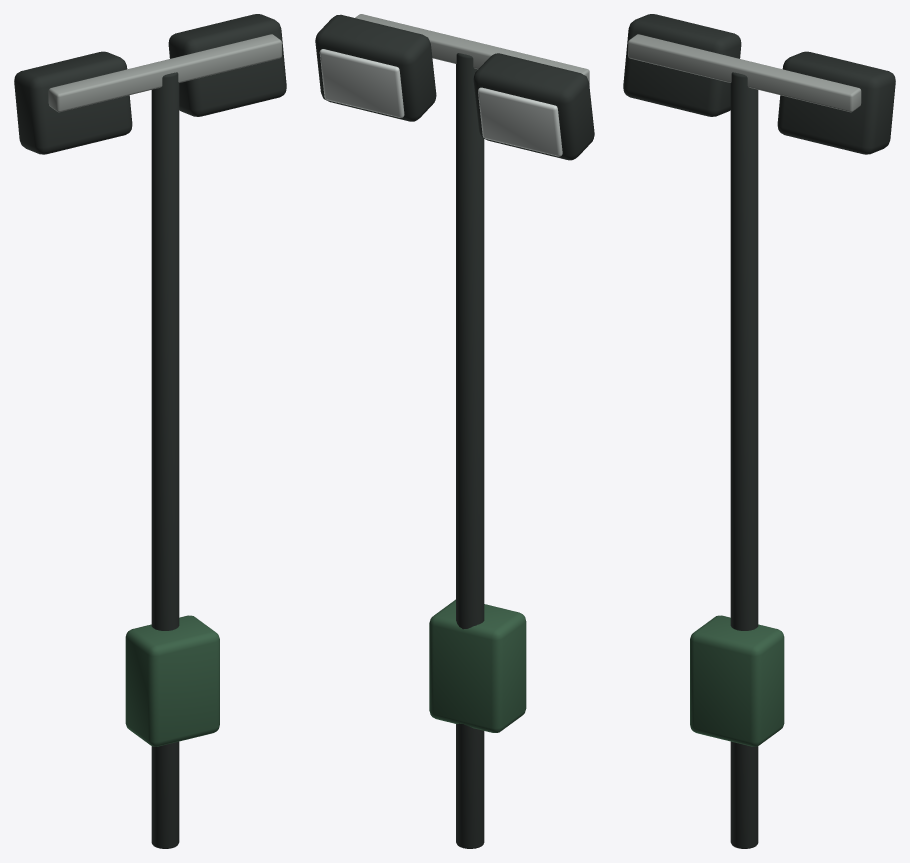
Rendered from floodlight.glb.
3 renders of one model, left to right at view 1: azimuth 30°, elevation 25°; view 2: azimuth 150°, elevation 25°; view 3: azimuth 330°, elevation 25°, orthographic. The views are drawn at different scales.
Visible parts, largest first — view 1: FloodMast, FloodJunction, FloodHousing-0.48, FloodHousing0.48, FloodCrossbar; view 2: FloodMast, FloodJunction, FloodHousing-0.48, FloodHousing0.48, FloodLens-0.48, FloodLens0.48, FloodCrossbar; view 3: FloodMast, FloodJunction, FloodHousing0.48, FloodHousing-0.48, FloodCrossbar.
Part boxes in pixels (<box>): FloodMast: <box>151,72,179,848</box>; FloodJunction: <box>125,615,219,746</box>; FloodHousing-0.48: <box>14,51,132,154</box>; FloodHousing0.48: <box>168,14,286,116</box>; FloodCrossbar: <box>48,34,281,112</box>; FloodMast: <box>456,53,484,848</box>; FloodJunction: <box>429,599,526,732</box>; FloodHousing-0.48: <box>473,53,594,160</box>; FloodHousing0.48: <box>315,14,436,121</box>; FloodLens-0.48: <box>478,87,562,156</box>; FloodLens0.48: <box>319,49,404,117</box>; FloodCrossbar: <box>355,14,589,85</box>; FloodMast: <box>730,72,758,848</box>; FloodJunction: <box>690,615,784,746</box>; FloodHousing0.48: <box>777,51,895,154</box>; FloodHousing-0.48: <box>623,14,741,116</box>; FloodCrossbar: <box>628,34,861,112</box>.
Size of the model in its own units: 1.56 by 4.68 by 0.5881.
